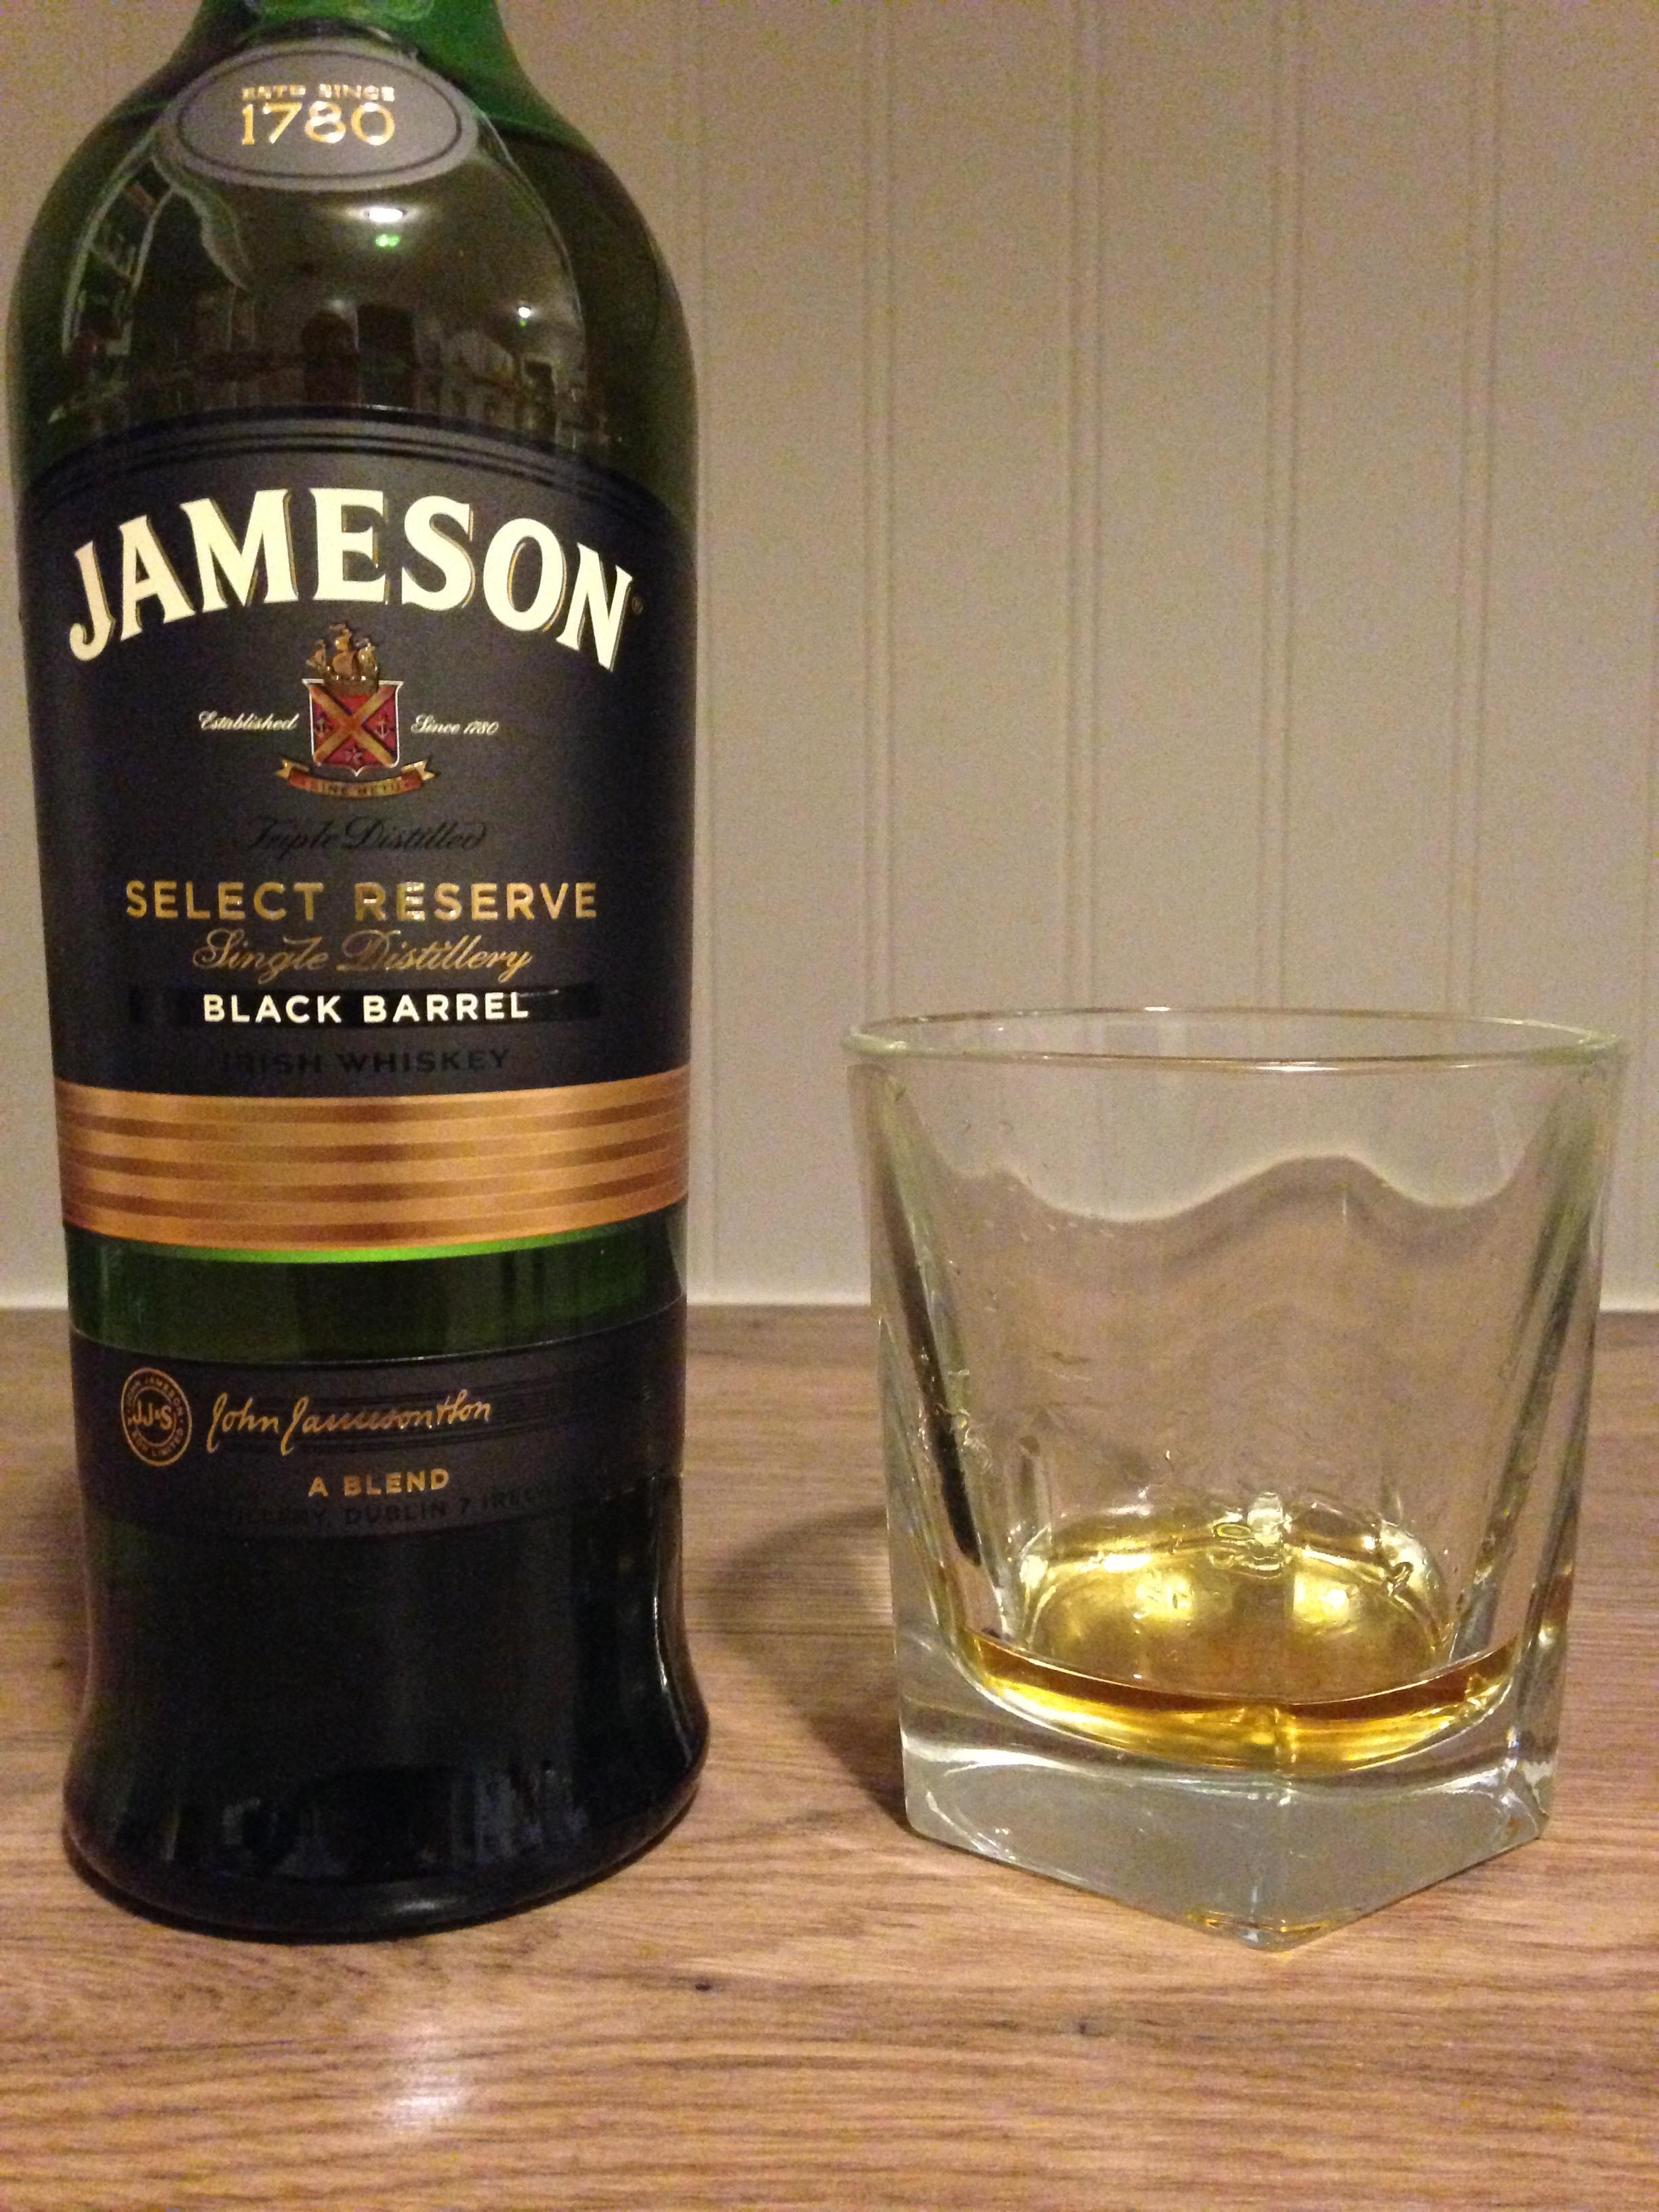Jameson: (7, 5, 730, 1961)
